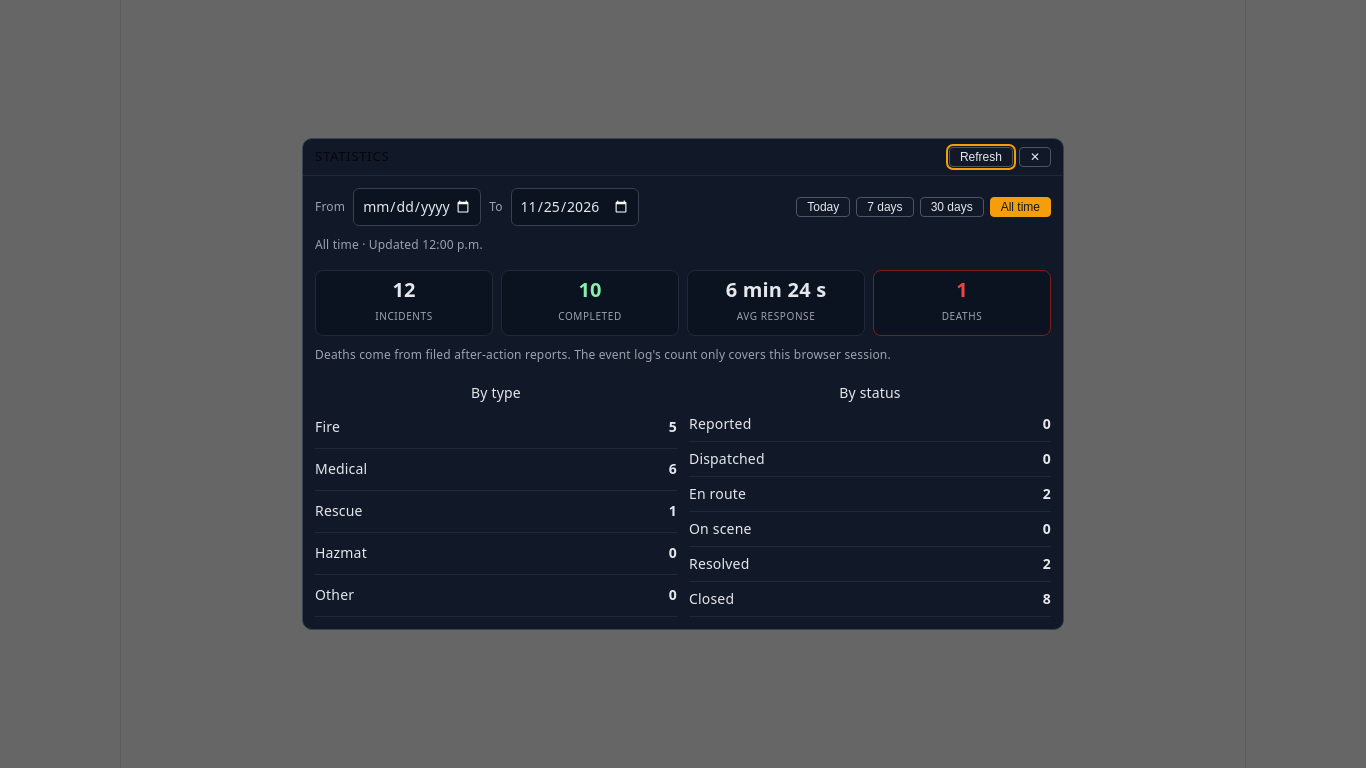
Stats window (ES-FR-024) › keeps the last numbers when a refresh fails
Check: the text "12" is shown, box [392,277,416,303]
Step 1. Click the button "Refresh" → point(981, 157), box [949,147,1013,167]
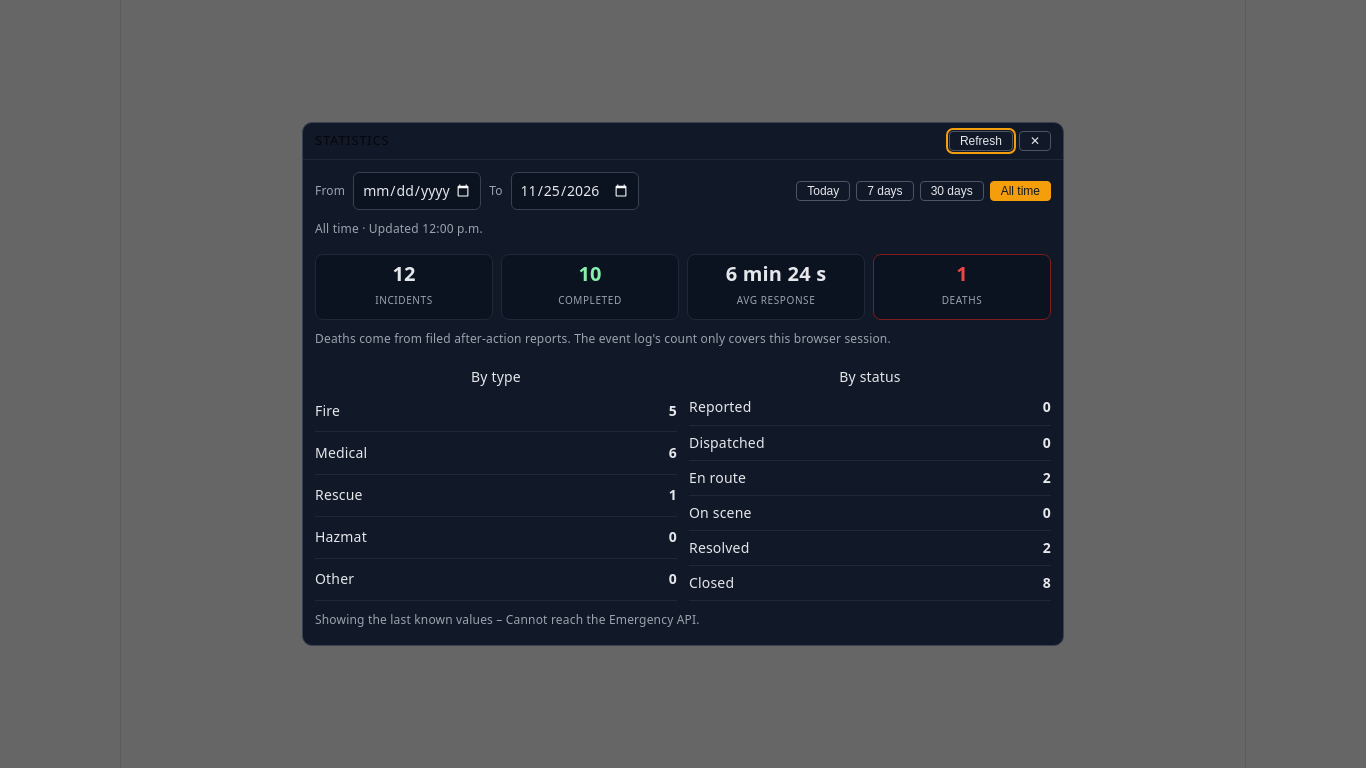
Check: the text "12" is shown, box [392,261,416,287]
Check: the text "Showing the last known values – Cannot reach the Emergency API." is shown, box [315,611,700,628]
